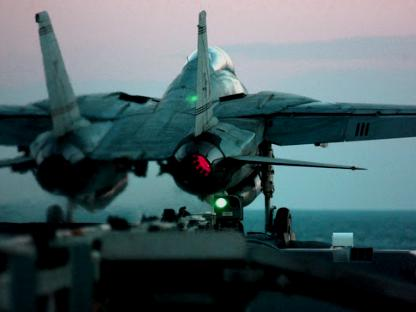EF2000: (1, 9, 415, 244)
